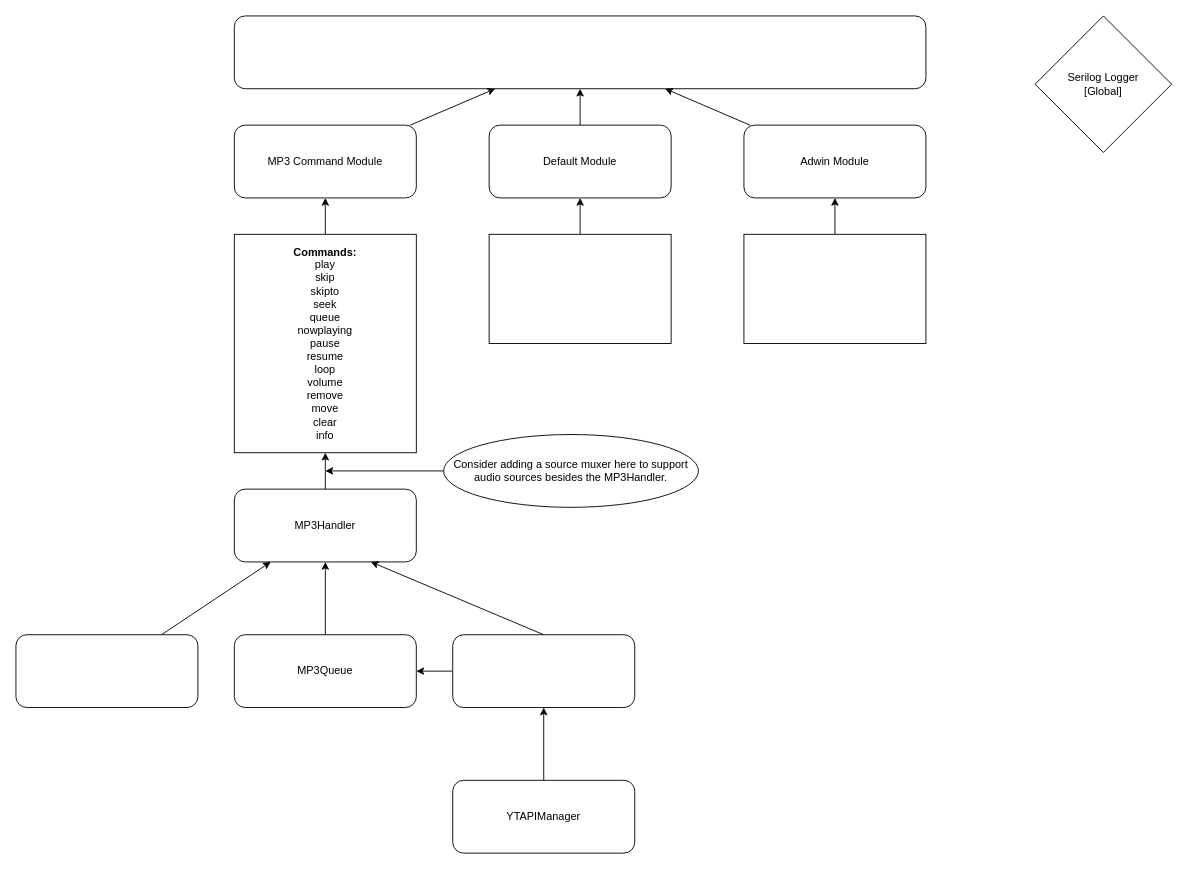
Some shapes in this 1188 by 869 pixel diagram are drawn without their labels. Here are the shapes that lost their labels. From the top down, the centre of each, then its label:
the point at 579,52: Interaction Handler
the point at 579,288: Commands: unmute mute ping eatmyassplz
the point at 834,288: Commands: adwin toggleallowadwin
the point at 106,671: VoiceStateManager
the point at 543,671: FFMPEGHandler
